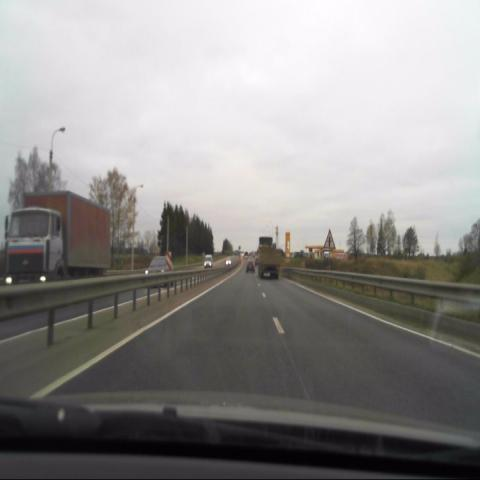2_3: (322, 226, 336, 251)
